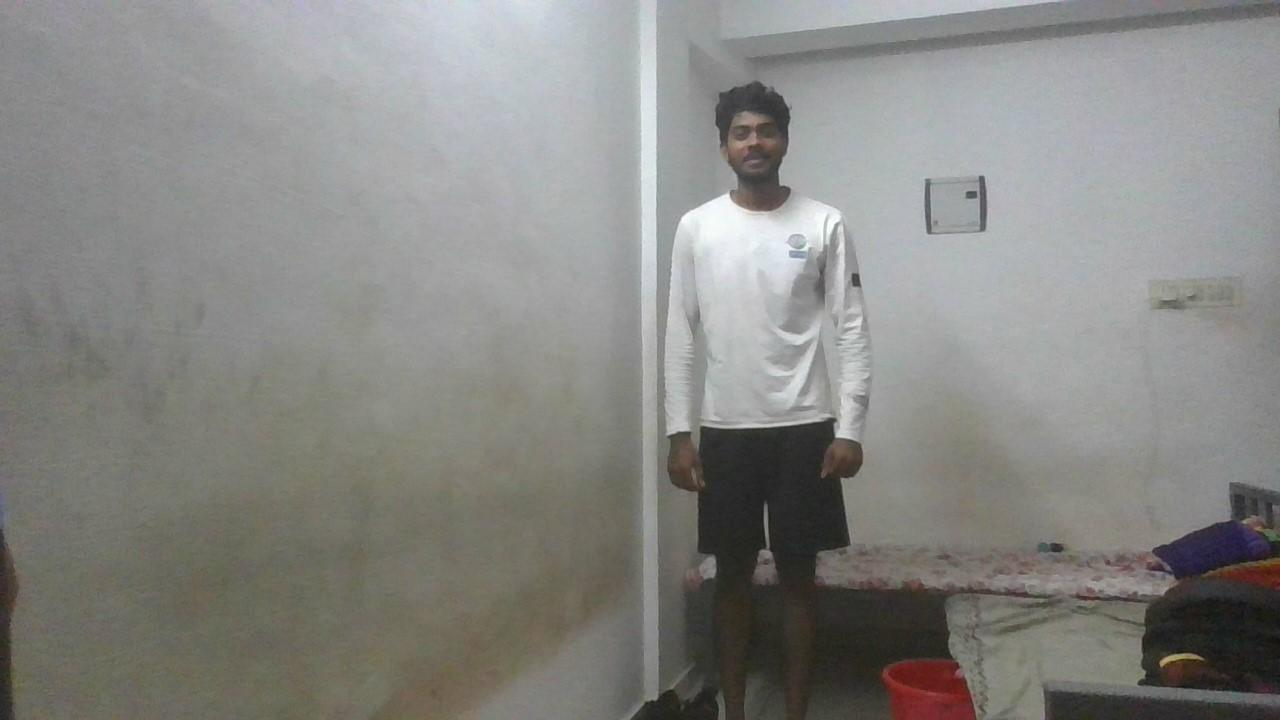nohelmet: (714, 81, 792, 191)
